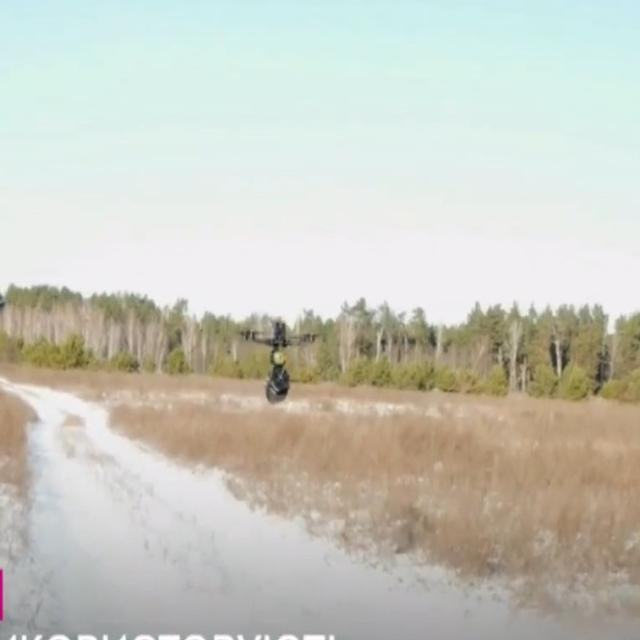drone: (235, 315, 324, 408)
